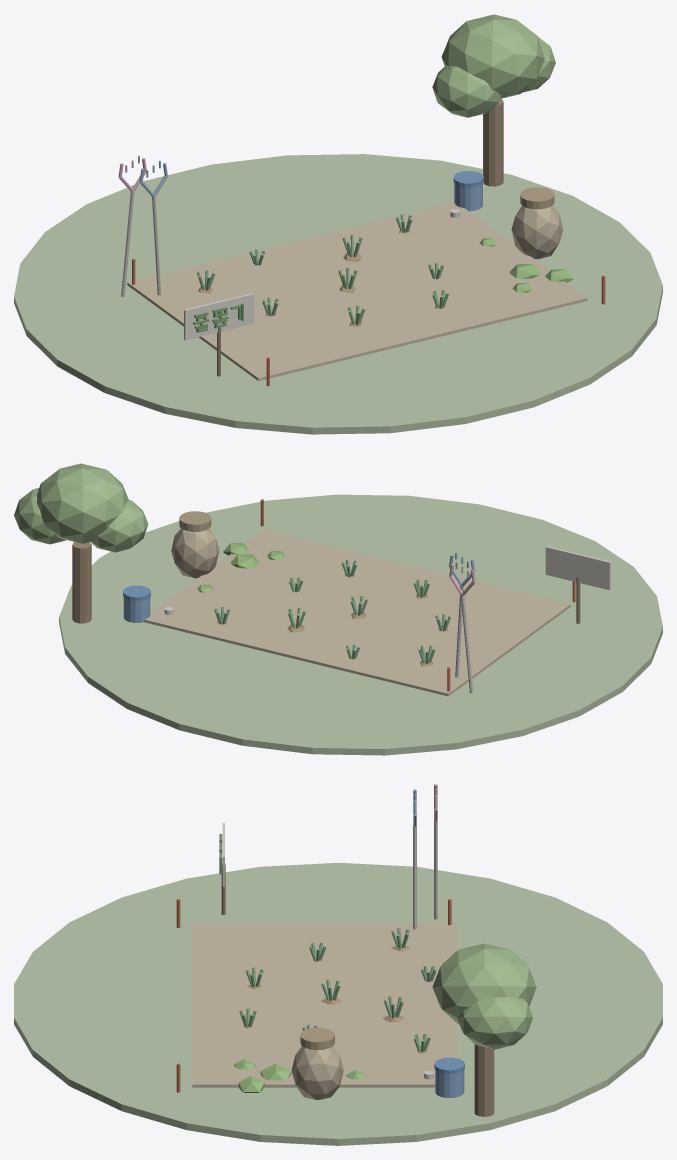
File: weeding.glb
3 renders of one model, top to bottom at view 1: azimuth 30°, elevation 25°; view 2: azimuth 150°, elevation 25°; view 3: azimuth 270°, elevation 25°, orthographic. The views are drawn at different scales.
Visible parts, largest first — view 1: part_11, part_14, part_06, part_12, part_03, part_18, part_08, part_05, part_15, part_10, part_02, part_01; view 2: part_11, part_14, part_06, part_18, part_12, part_03, part_08, part_05, part_15, part_02, part_10; view 3: part_11, part_14, part_06, part_12, part_03, part_08, part_05, part_15, part_02, part_10.
Boxes of the visible parts, x1,y1,x2,y2 form: part_11: [14, 154, 662, 434]; part_14: [127, 202, 587, 380]; part_06: [432, 14, 555, 117]; part_12: [511, 205, 562, 259]; part_03: [197, 214, 448, 325]; part_18: [184, 293, 253, 340]; part_08: [483, 99, 503, 186]; part_05: [479, 238, 573, 292]; part_15: [121, 191, 161, 296]; part_10: [520, 187, 554, 209]; part_02: [454, 183, 482, 211]; part_01: [193, 303, 243, 332]; part_11: [59, 494, 662, 755]; part_14: [144, 530, 570, 696]; part_06: [14, 463, 148, 552]; part_18: [545, 546, 610, 590]; part_12: [171, 528, 219, 578]; part_03: [214, 560, 450, 663]; part_08: [72, 542, 91, 623]; part_05: [197, 543, 285, 592]; part_15: [455, 586, 473, 693]; part_02: [123, 597, 150, 622]; part_10: [179, 511, 211, 531]; part_11: [14, 862, 662, 1145]; part_14: [192, 923, 456, 1087]; part_06: [432, 943, 536, 1049]; part_12: [291, 1046, 343, 1099]; part_03: [239, 928, 436, 1051]; part_08: [474, 1044, 494, 1116]; part_05: [234, 1059, 365, 1092]; part_15: [413, 820, 437, 929]; part_02: [435, 1070, 464, 1097]; part_10: [300, 1027, 334, 1050].
Bounding box in the file's own units: 19.1 × 5.43 × 18.66.
